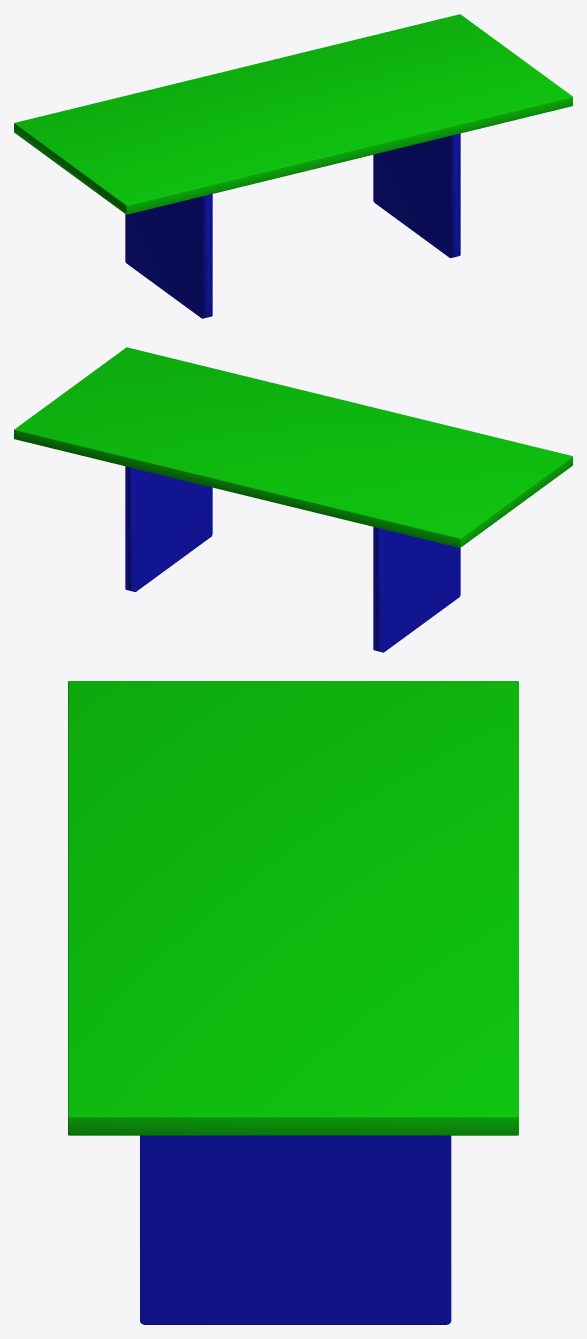
The model's file is Kamar tables01.fbx.
3 renders of one model, top to bottom at view 1: azimuth 30°, elevation 25°; view 2: azimuth 150°, elevation 25°; view 3: azimuth 270°, elevation 25°, orthographic. The views are drawn at different scales.
Parts seen in each view (by area): view 1: Cube, Cube.002; view 2: Cube, Cube.002; view 3: Cube, Cube.002.
Part boxes in pixels (<box>): Cube: <box>14,14,572,214</box>; Cube.002: <box>125,133,460,318</box>; Cube: <box>14,347,572,547</box>; Cube.002: <box>125,466,460,652</box>; Cube: <box>68,681,518,1135</box>; Cube.002: <box>140,1135,451,1324</box>.
Size of the model in its own units: 244 by 78.43 by 107.
